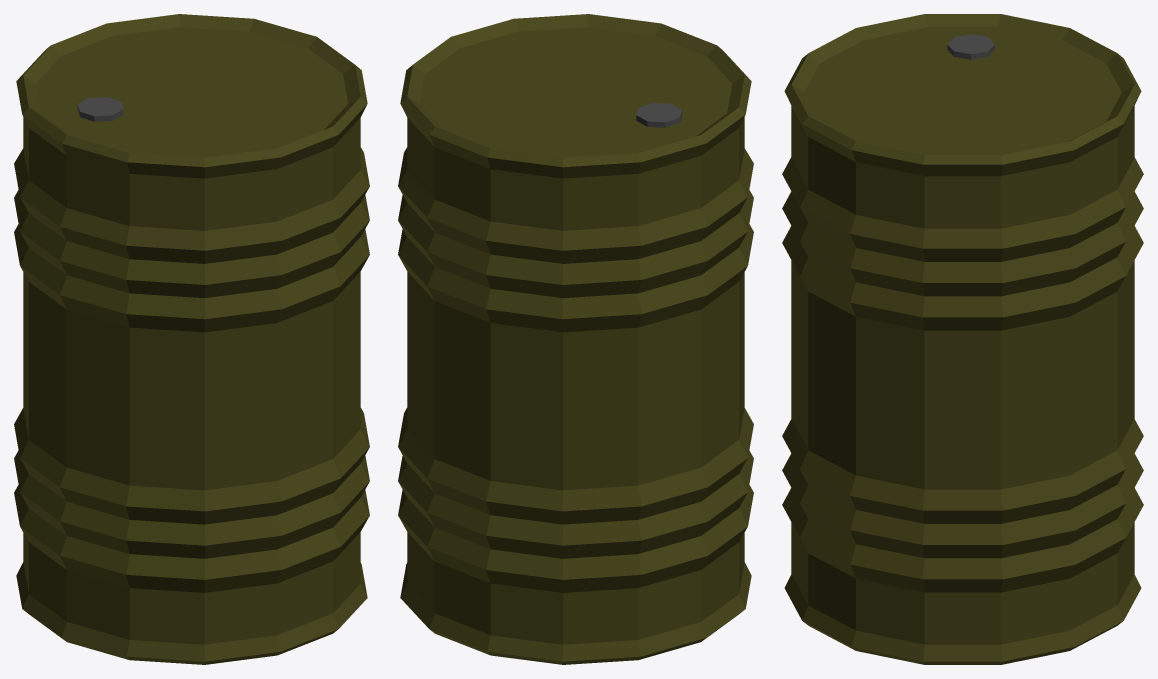
Rendered from Barrel_2.fbx.
3 views of the same model, side by side, from view 1: azimuth 30°, elevation 25°; view 2: azimuth 150°, elevation 25°; view 3: azimuth 270°, elevation 25° (orthographic).
Parts seen in each view (by area): view 1: Barrel_2; view 2: Barrel_2; view 3: Barrel_2.
Boxes of the visible parts, x1,y1,x2,y2 form: Barrel_2: [14, 14, 369, 664]; Barrel_2: [398, 14, 753, 664]; Barrel_2: [782, 14, 1143, 664].
Bounding box in the file's own units: 310 × 494 × 318.
